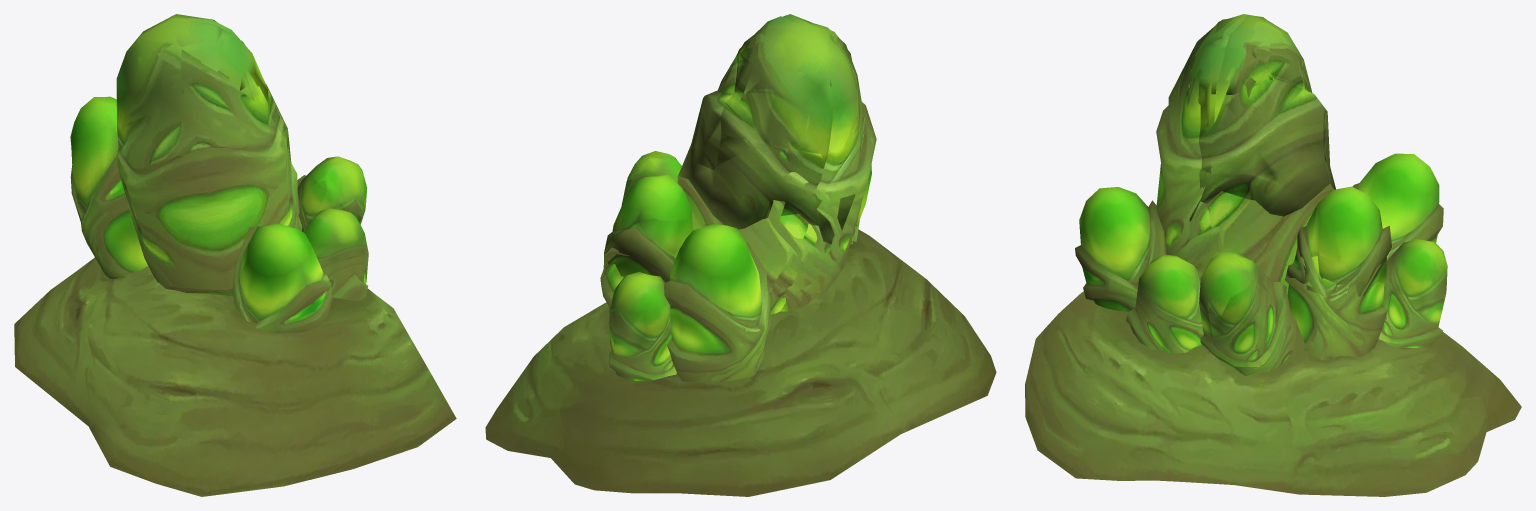
The picture shows the model from 3 angles, left to right: view 1: azimuth 30°, elevation 25°; view 2: azimuth 150°, elevation 25°; view 3: azimuth 270°, elevation 25°; orthographic projection. The views are drawn at different scales.
Size of the model in its own units: 2.63 by 2.7 by 3.27.
Materials: 14 (14 with a texture image).
